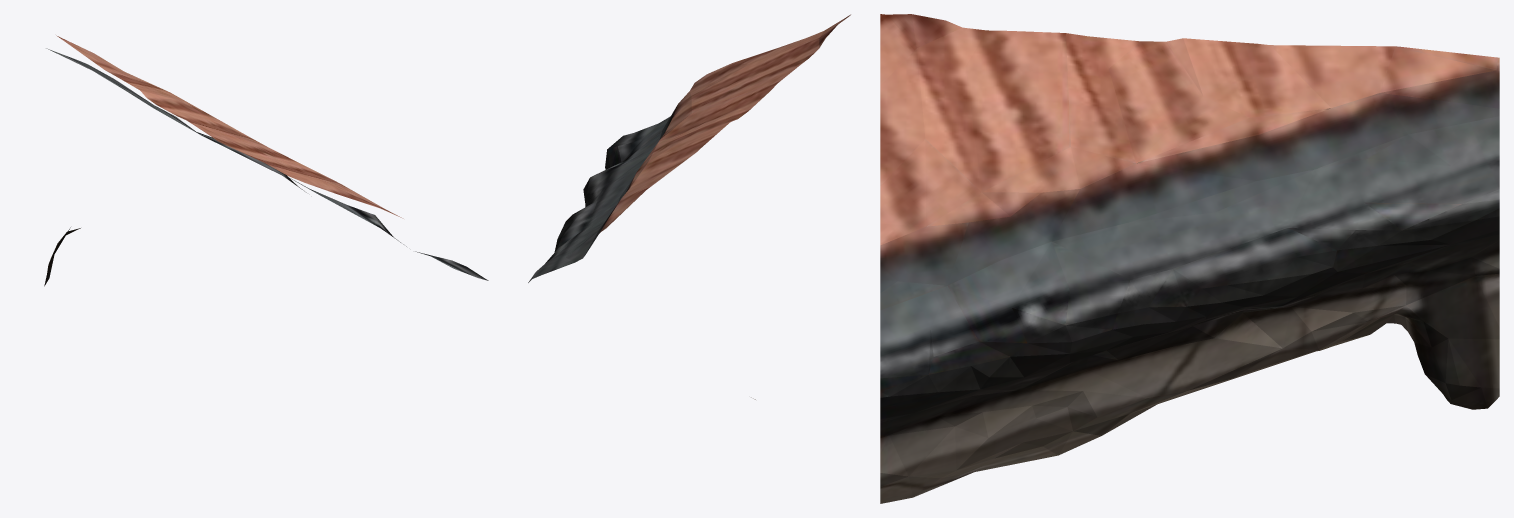
The picture shows the model from 3 angles, left to right: view 1: azimuth 30°, elevation 25°; view 2: azimuth 150°, elevation 25°; view 3: azimuth 270°, elevation 25°; orthographic projection. The views are drawn at different scales.
Size of the model in its own units: 0.4644 by 0.6705 by 0.8373.
3 materials, 3 textured.
